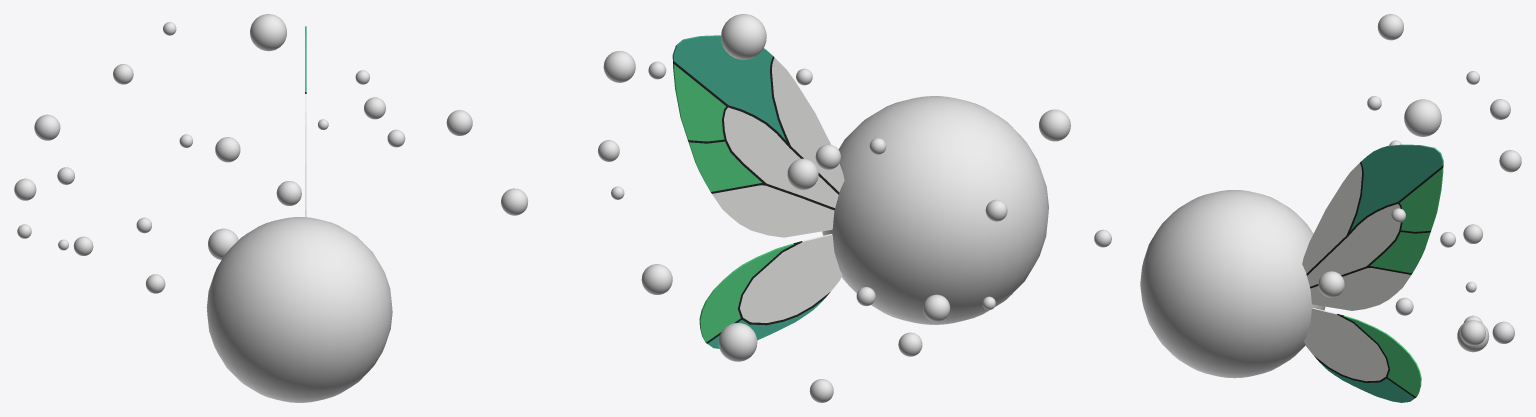
File: Fairy.fbx
3 views of the same model, side by side, from view 1: azimuth 30°, elevation 25°; view 2: azimuth 150°, elevation 25°; view 3: azimuth 270°, elevation 25° (orthographic). The views are drawn at different scales.
Parts seen in each view (by area): view 1: Sphere, Sphere.001, Sphere.005, Sphere.006, Sphere.011, Sphere.003, Sphere.016; view 2: Sphere, Plane, Sphere.001, Sphere.005, Sphere.006, Sphere.011, Sphere.003, Sphere.016, Sphere.015, Sphere.010; view 3: Sphere, Plane, Sphere.001, Sphere.011, Sphere.006, Sphere.016, Sphere.010, Sphere.015, Sphere.002.
Boxes of the visible parts, x1,y1,x2,y2 form: Sphere: [206, 217, 392, 402]; Sphere.001: [250, 14, 286, 51]; Sphere.005: [208, 228, 238, 259]; Sphere.006: [34, 114, 60, 140]; Sphere.011: [446, 110, 472, 135]; Sphere.003: [215, 137, 240, 162]; Sphere.016: [276, 181, 301, 205]; Sphere: [822, 96, 1048, 324]; Plane: [672, 35, 844, 348]; Sphere.001: [721, 14, 766, 59]; Sphere.005: [718, 323, 757, 361]; Sphere.006: [1039, 109, 1070, 141]; Sphere.011: [603, 51, 635, 82]; Sphere.003: [787, 158, 818, 189]; Sphere.016: [641, 264, 672, 294]; Sphere.015: [501, 188, 528, 215]; Sphere.010: [923, 294, 950, 321]; Sphere: [1140, 190, 1325, 378]; Plane: [1302, 144, 1443, 402]; Sphere.001: [1404, 99, 1441, 136]; Sphere.011: [1318, 271, 1344, 297]; Sphere.006: [1377, 14, 1403, 40]; Sphere.016: [1460, 320, 1485, 345]; Sphere.010: [1499, 150, 1521, 172]; Sphere.015: [1492, 321, 1514, 343]; Sphere.002: [1490, 99, 1510, 119].
Size of the model in its own units: 535 by 350 by 405.
